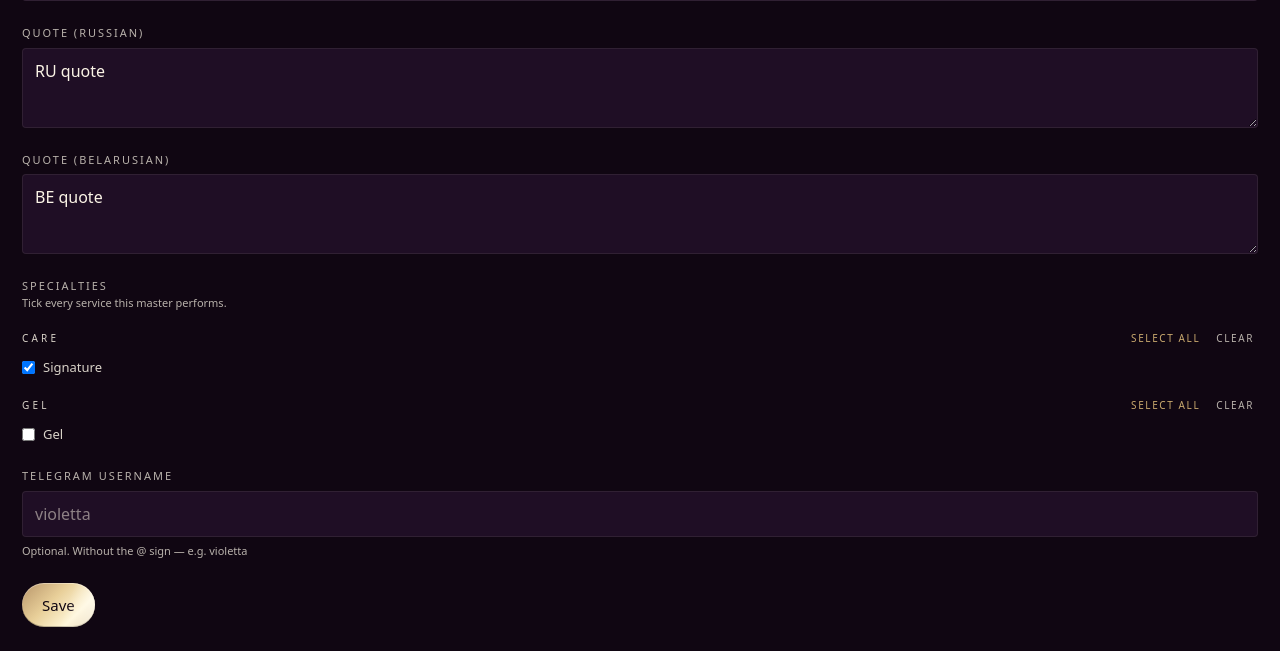
Test case: MasterEditor › rejects an invalid Telegram username with an inline error
The image size is (1280, 651).
(page scrolled)
Type "bad!" into the field labelled "Telegram username" at {"x": 640, "y": 514}, box x1=22 y1=490 x2=1258 y2=536
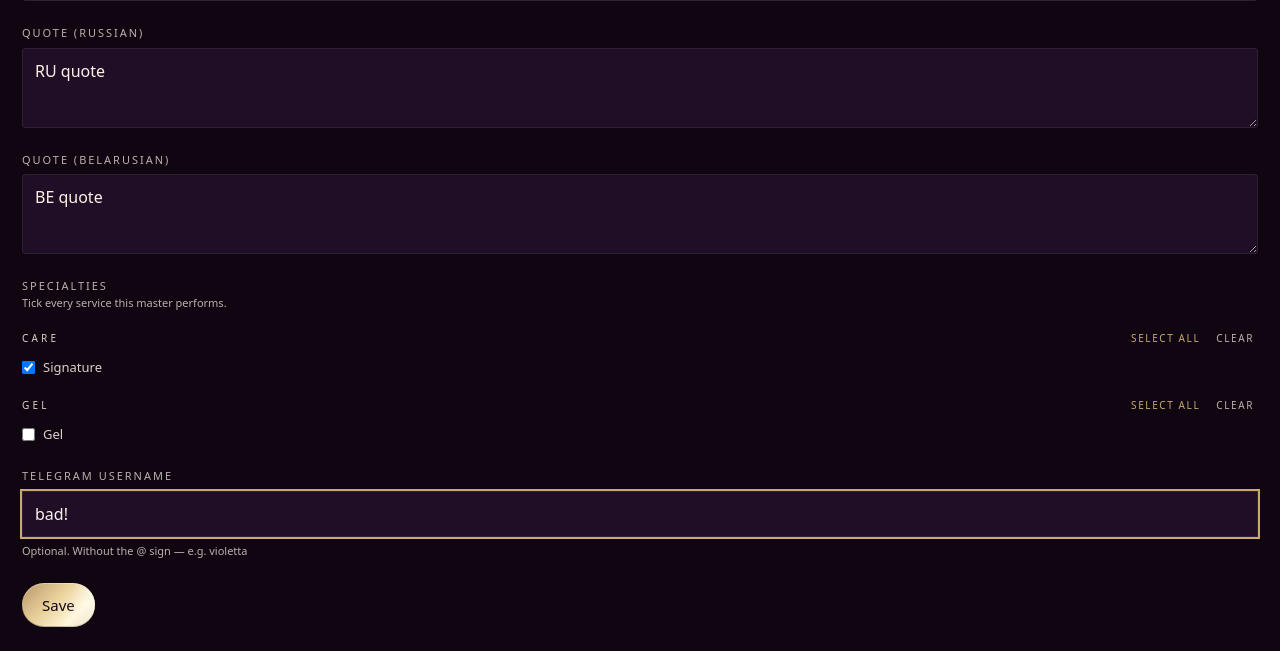
Click the button "Save" at {"x": 58, "y": 605}, box x1=22 y1=583 x2=95 y2=627
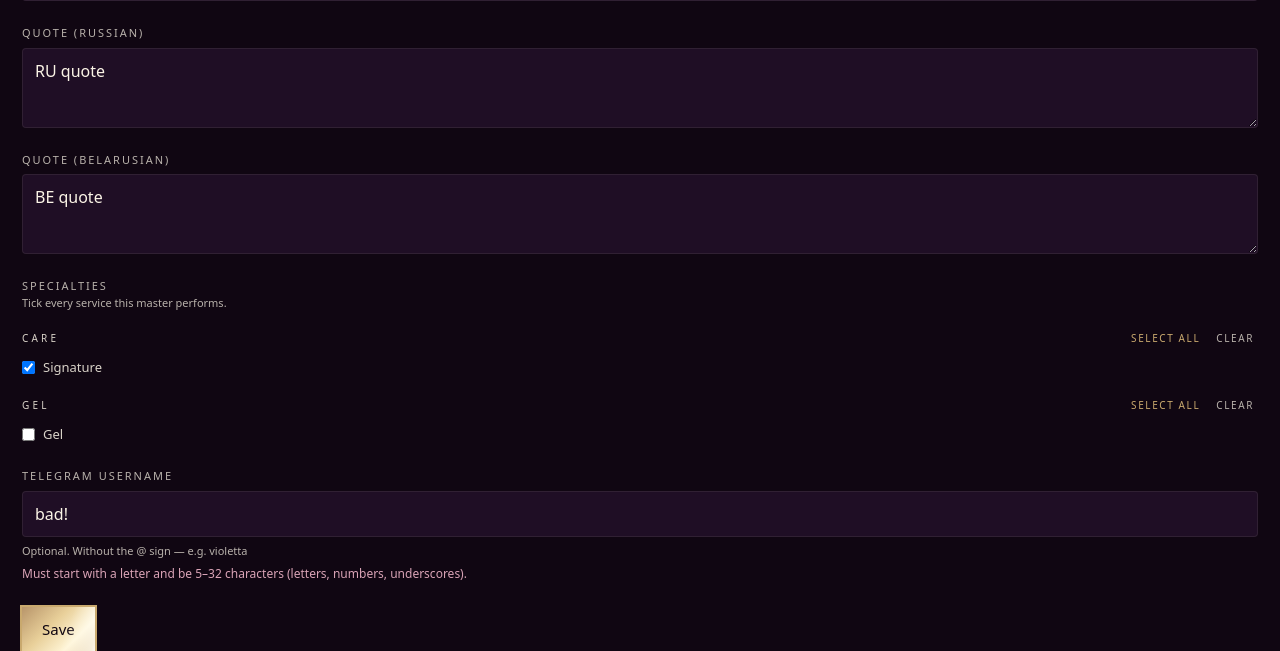
Expected: the text "5.32 characters" is shown, x1=22 y1=565 x2=467 y2=582
